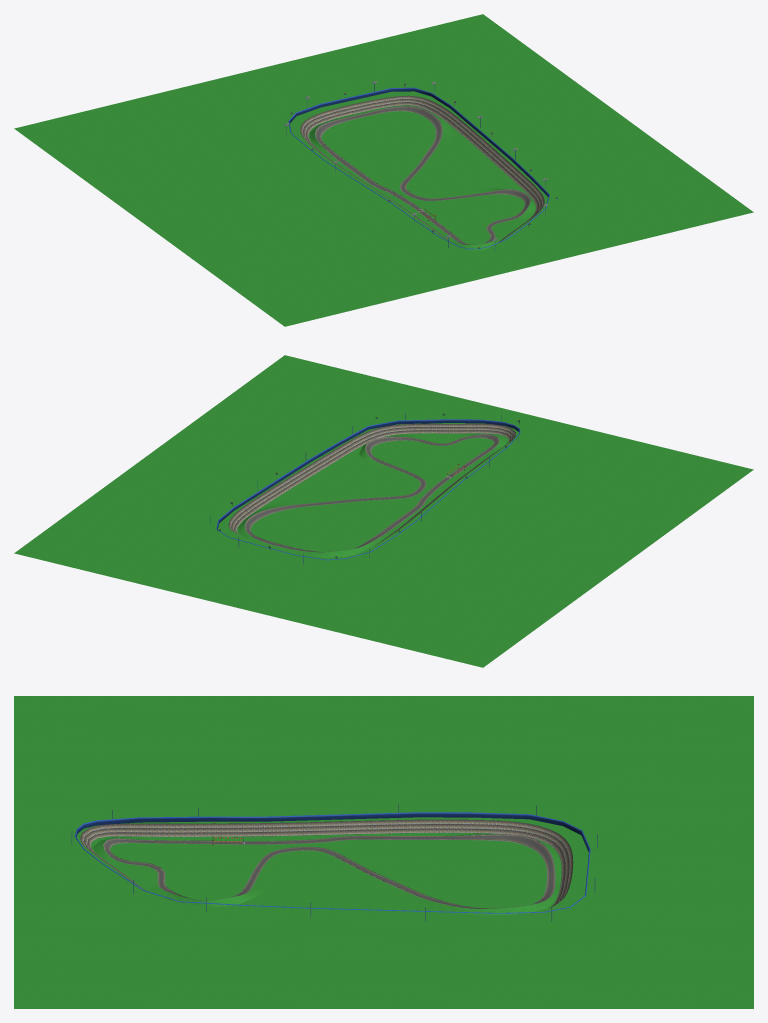
File: speedway_b.glb
3 views of the same model, one above another, from view 1: azimuth 30°, elevation 25°; view 2: azimuth 150°, elevation 25°; view 3: azimuth 270°, elevation 25° (orthographic). The views are drawn at different scales.
Parts seen in each view (by area): view 1: ground, stands, speedway2_all, stadium_wall; view 2: ground, stands, speedway2_all, stadium_wall, hill_4; view 3: ground, stands, speedway2_all, stadium_wall, hill_3, hill_5, berrier_wall, gaurdrail.
Part boxes in pixels (x1,y1,x2,y2): ground: (14, 14, 753, 326); stands: (300, 95, 544, 246); speedway2_all: (315, 106, 530, 244); stadium_wall: (288, 87, 549, 249); ground: (14, 355, 753, 667); stands: (228, 423, 515, 546); speedway2_all: (244, 434, 499, 552); stadium_wall: (216, 419, 520, 560); hill_4: (285, 533, 389, 557); ground: (14, 696, 753, 1008); stands: (80, 819, 573, 907); speedway2_all: (103, 834, 555, 908); stadium_wall: (74, 812, 590, 913); hill_3: (413, 874, 561, 915); hill_5: (148, 867, 272, 907); berrier_wall: (104, 834, 553, 908); gaurdrail: (110, 839, 545, 908).
Bounding box in the file's own units: 8831 × 290 × 8831.
Materials: 15 (15 with a texture image).
